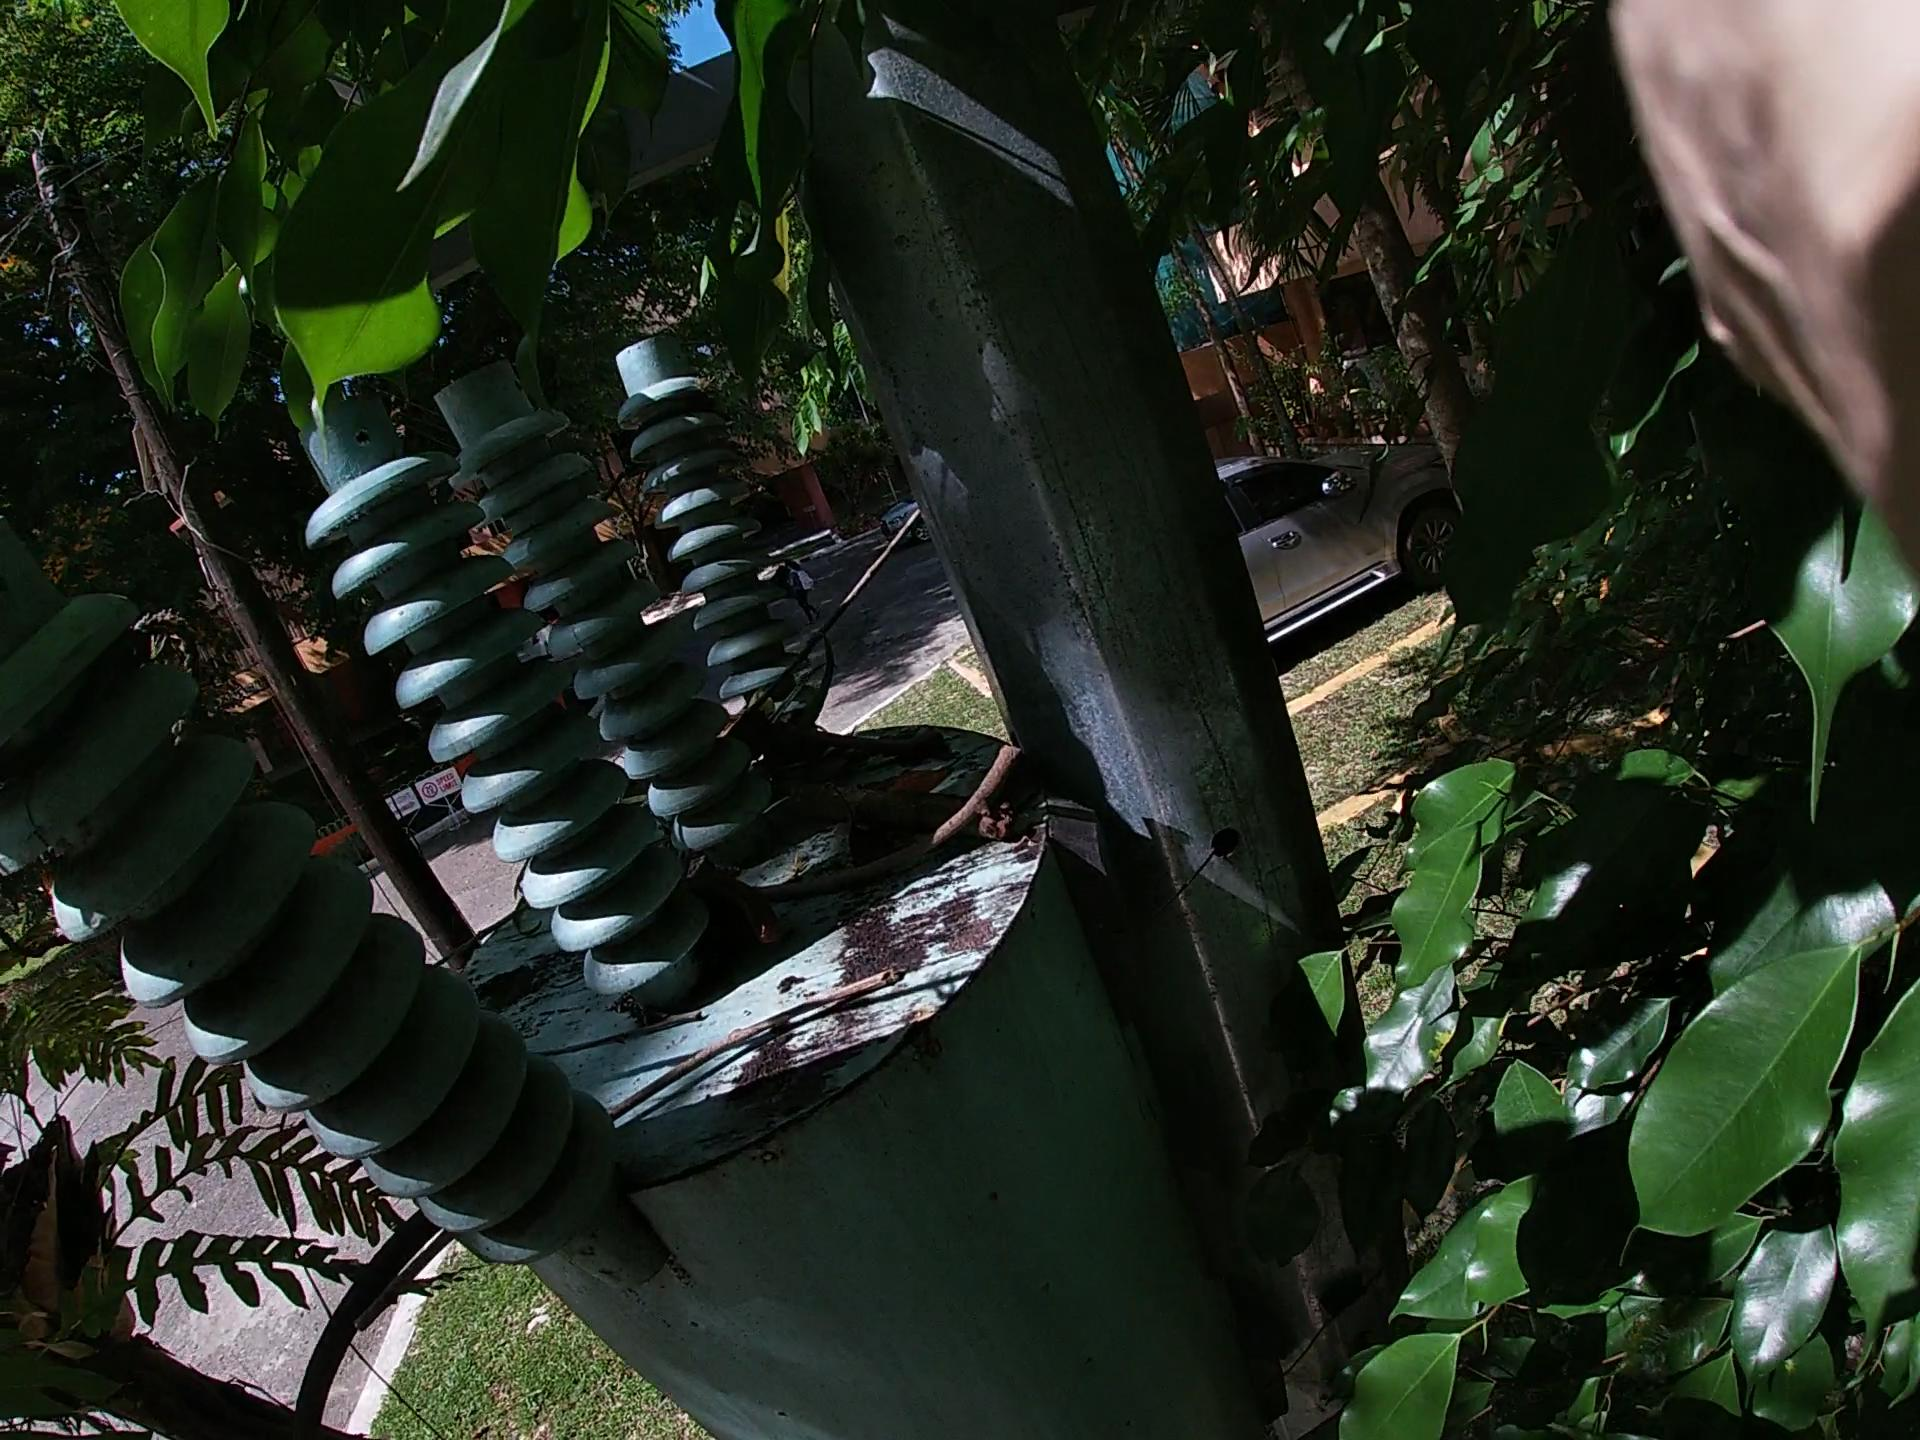branch with leaves: (677, 560, 872, 762)
leaf: (813, 693, 1030, 862)
mahogany fruit: (664, 817, 810, 982)
tree branch: (428, 501, 893, 970), (379, 926, 890, 1324), (835, 646, 1052, 935)
